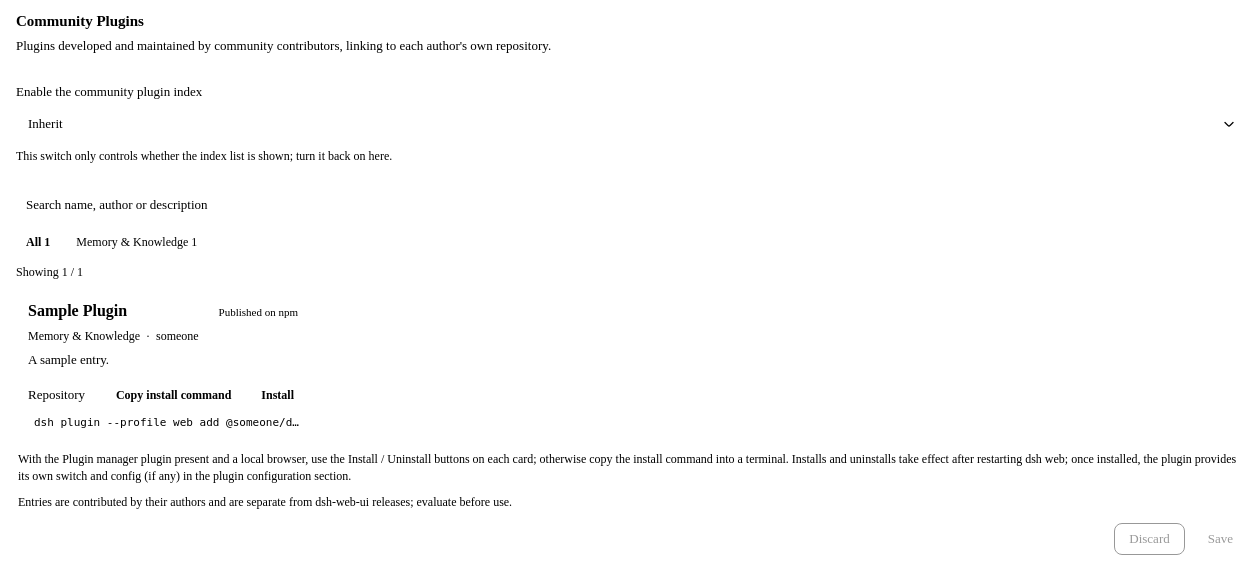
Test: CommunityPluginsCard install states › installs from the card and lands on the installed badge
The image size is (1253, 572).
Click the button "Install" at {"x": 278, "y": 395}, box [249,382,306,408]
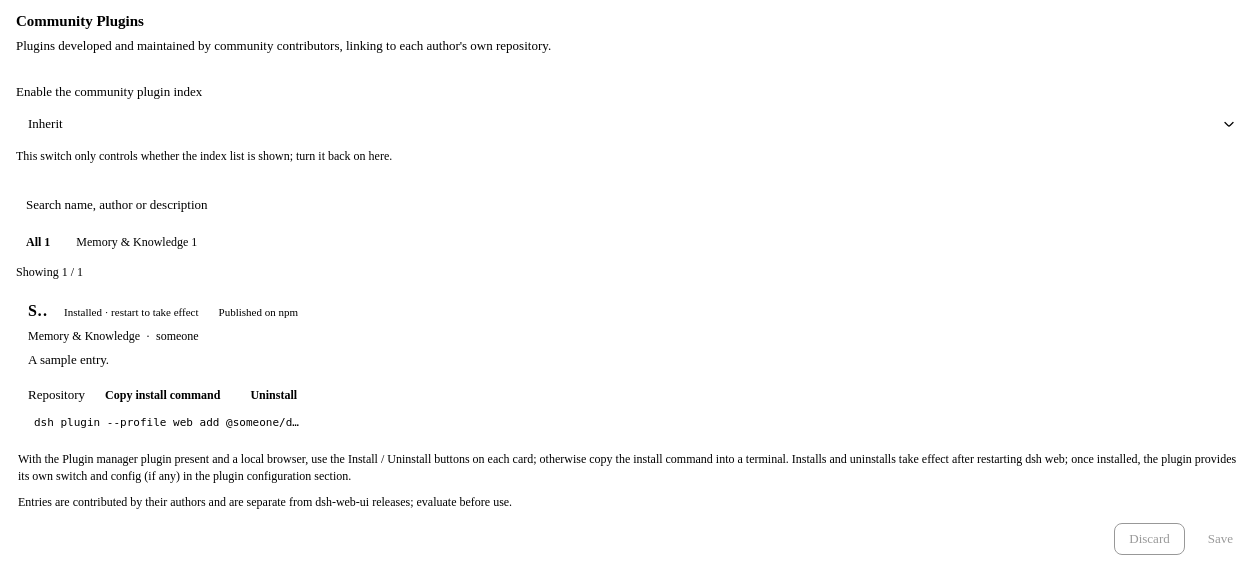
Check: the button "Copy install command" is shown, box [93,382,232,408]
Check: the text "Installed · restart to take effect" is shown, box [56,304,207,322]
Check: the button "Uninstall" is shown, box [238,382,309,408]
